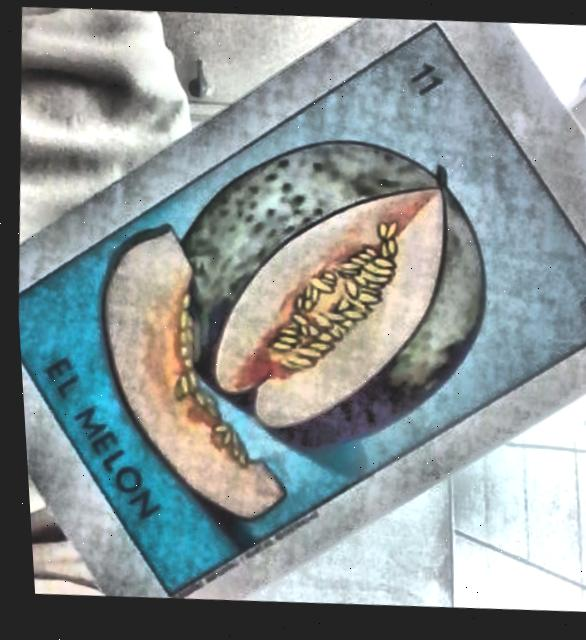El Melon: (14, 31, 586, 594)
